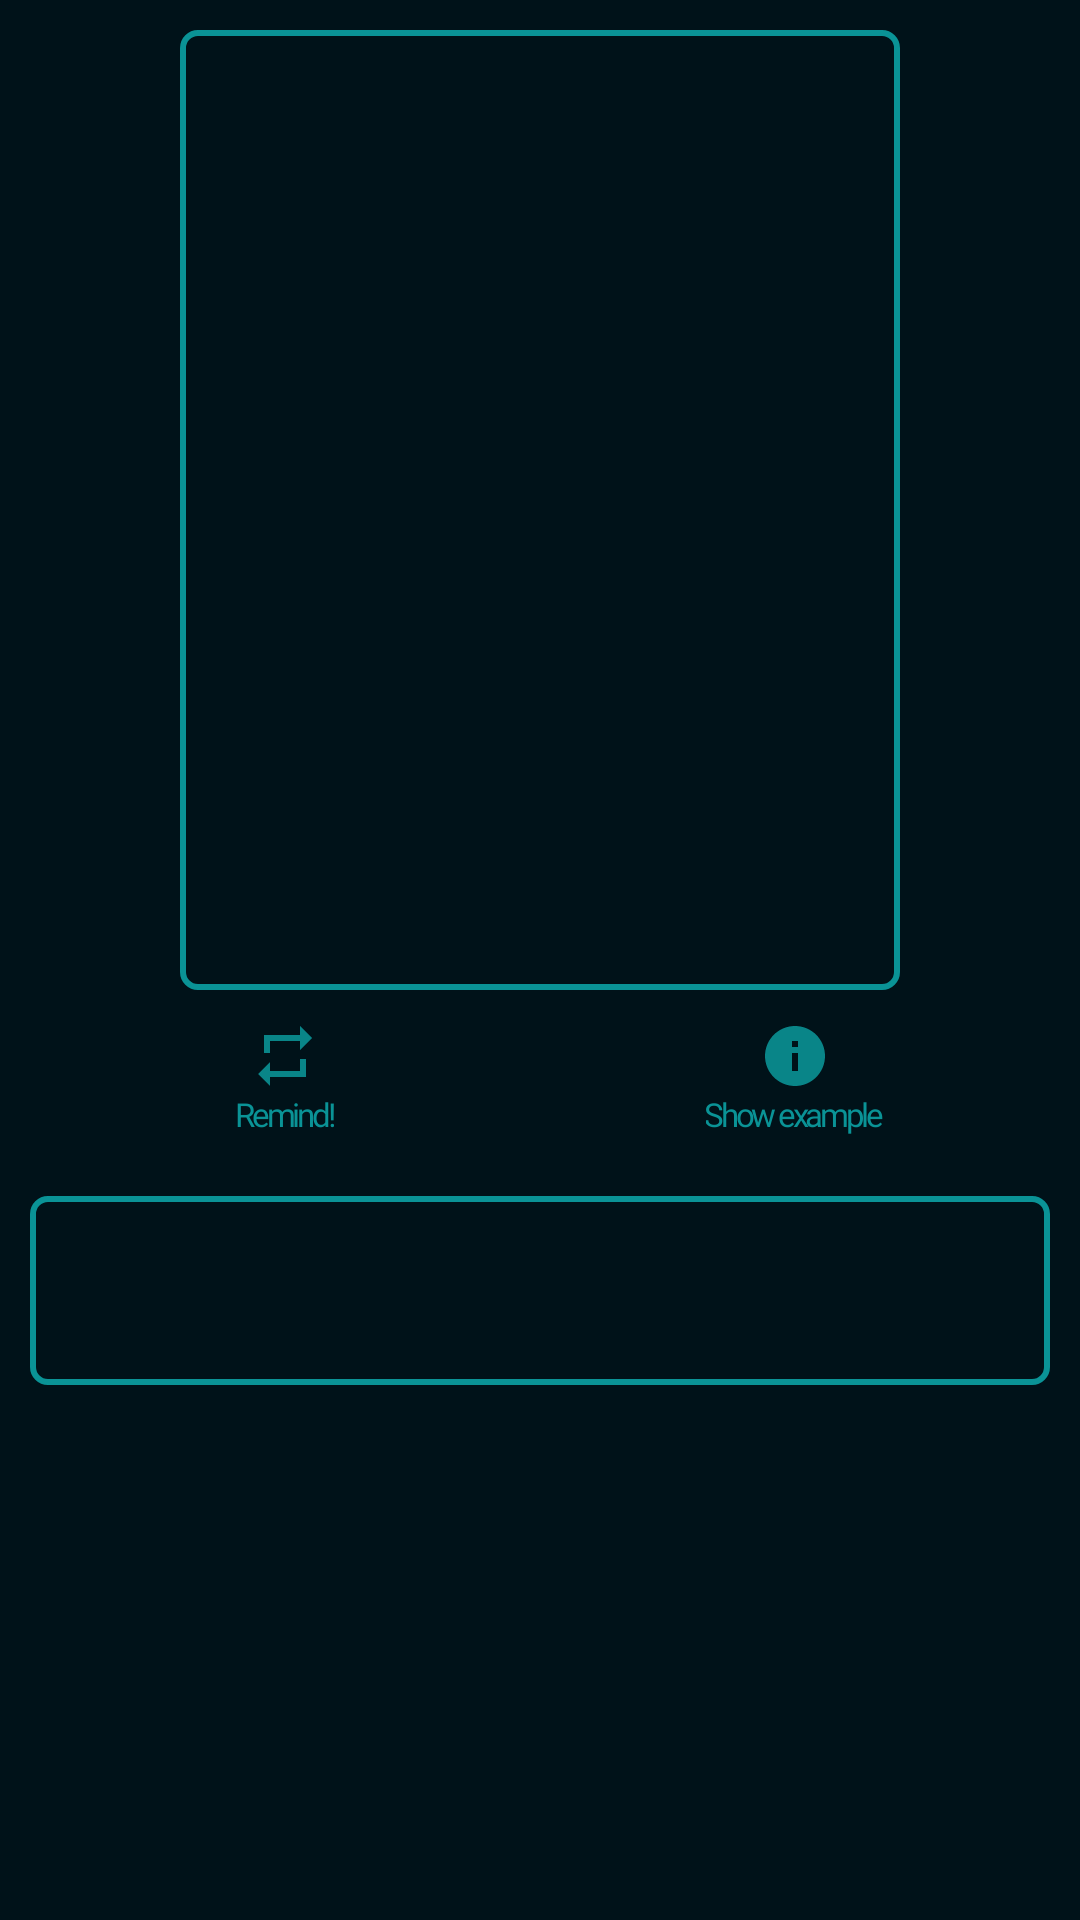

Screen size 1080px x 1920px. Icon name, then its center in pixels as (x=x, y=y):
info: (x=795, y=1056)
repeat: (x=285, y=1056)
